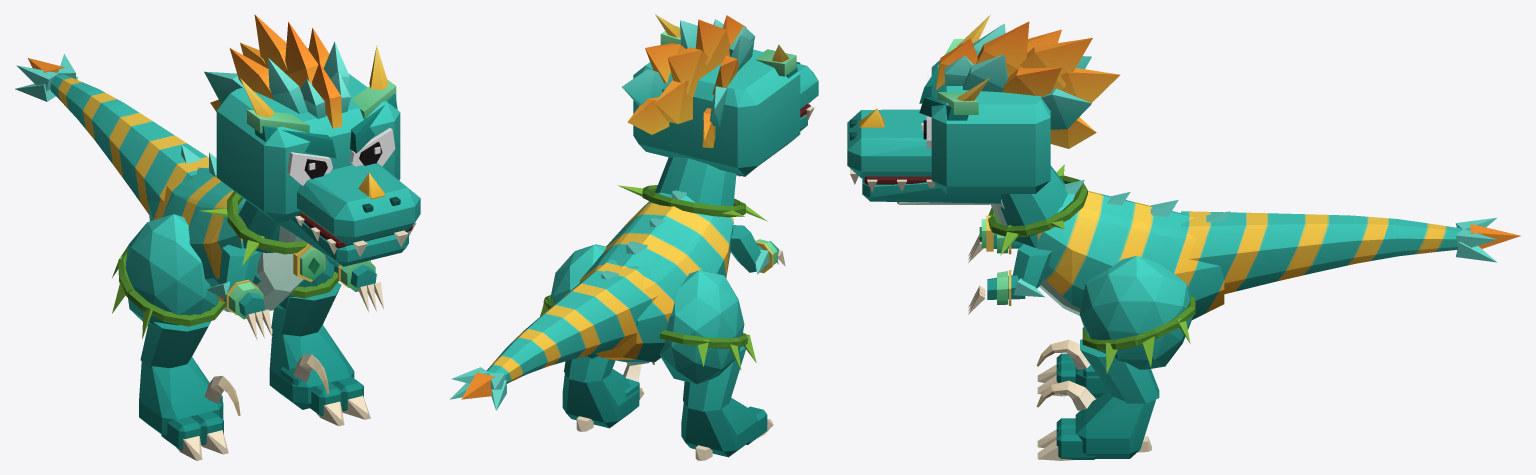
The model's file is RaptorRumble.glb.
3 views of the same model, side by side, from view 1: azimuth 30°, elevation 25°; view 2: azimuth 150°, elevation 25°; view 3: azimuth 270°, elevation 25° (orthographic). The views are drawn at different scales.
Parts seen in each view (by area): view 1: RaptorRumble; view 2: RaptorRumble; view 3: RaptorRumble.
Part boxes in pixels (x1,y1,x2,y2): RaptorRumble: [15, 14, 420, 460]; RaptorRumble: [450, 14, 818, 460]; RaptorRumble: [847, 14, 1520, 460].
Bounding box in the file's own units: 0.5764 × 1.04 × 1.59.
Materials: 1 (1 with a texture image).
